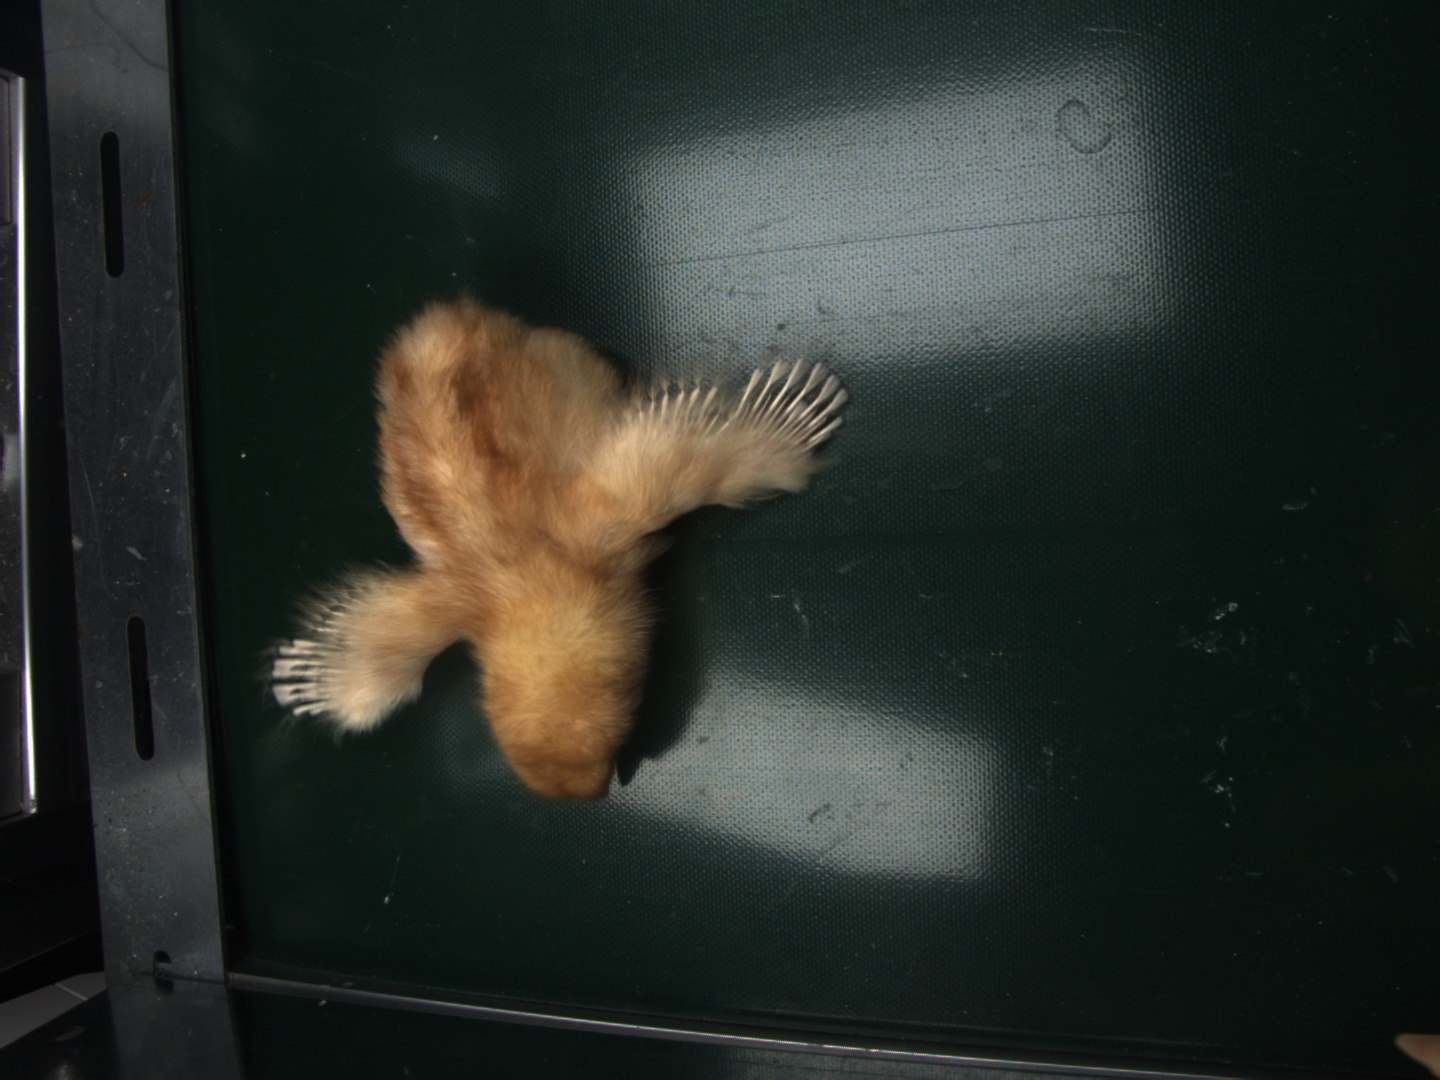female: (743, 356, 852, 448)
